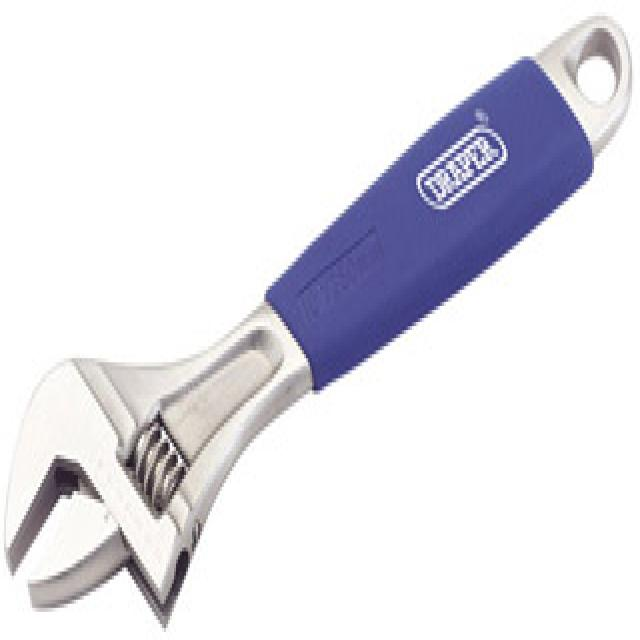wrench: (0, 223, 444, 640)
